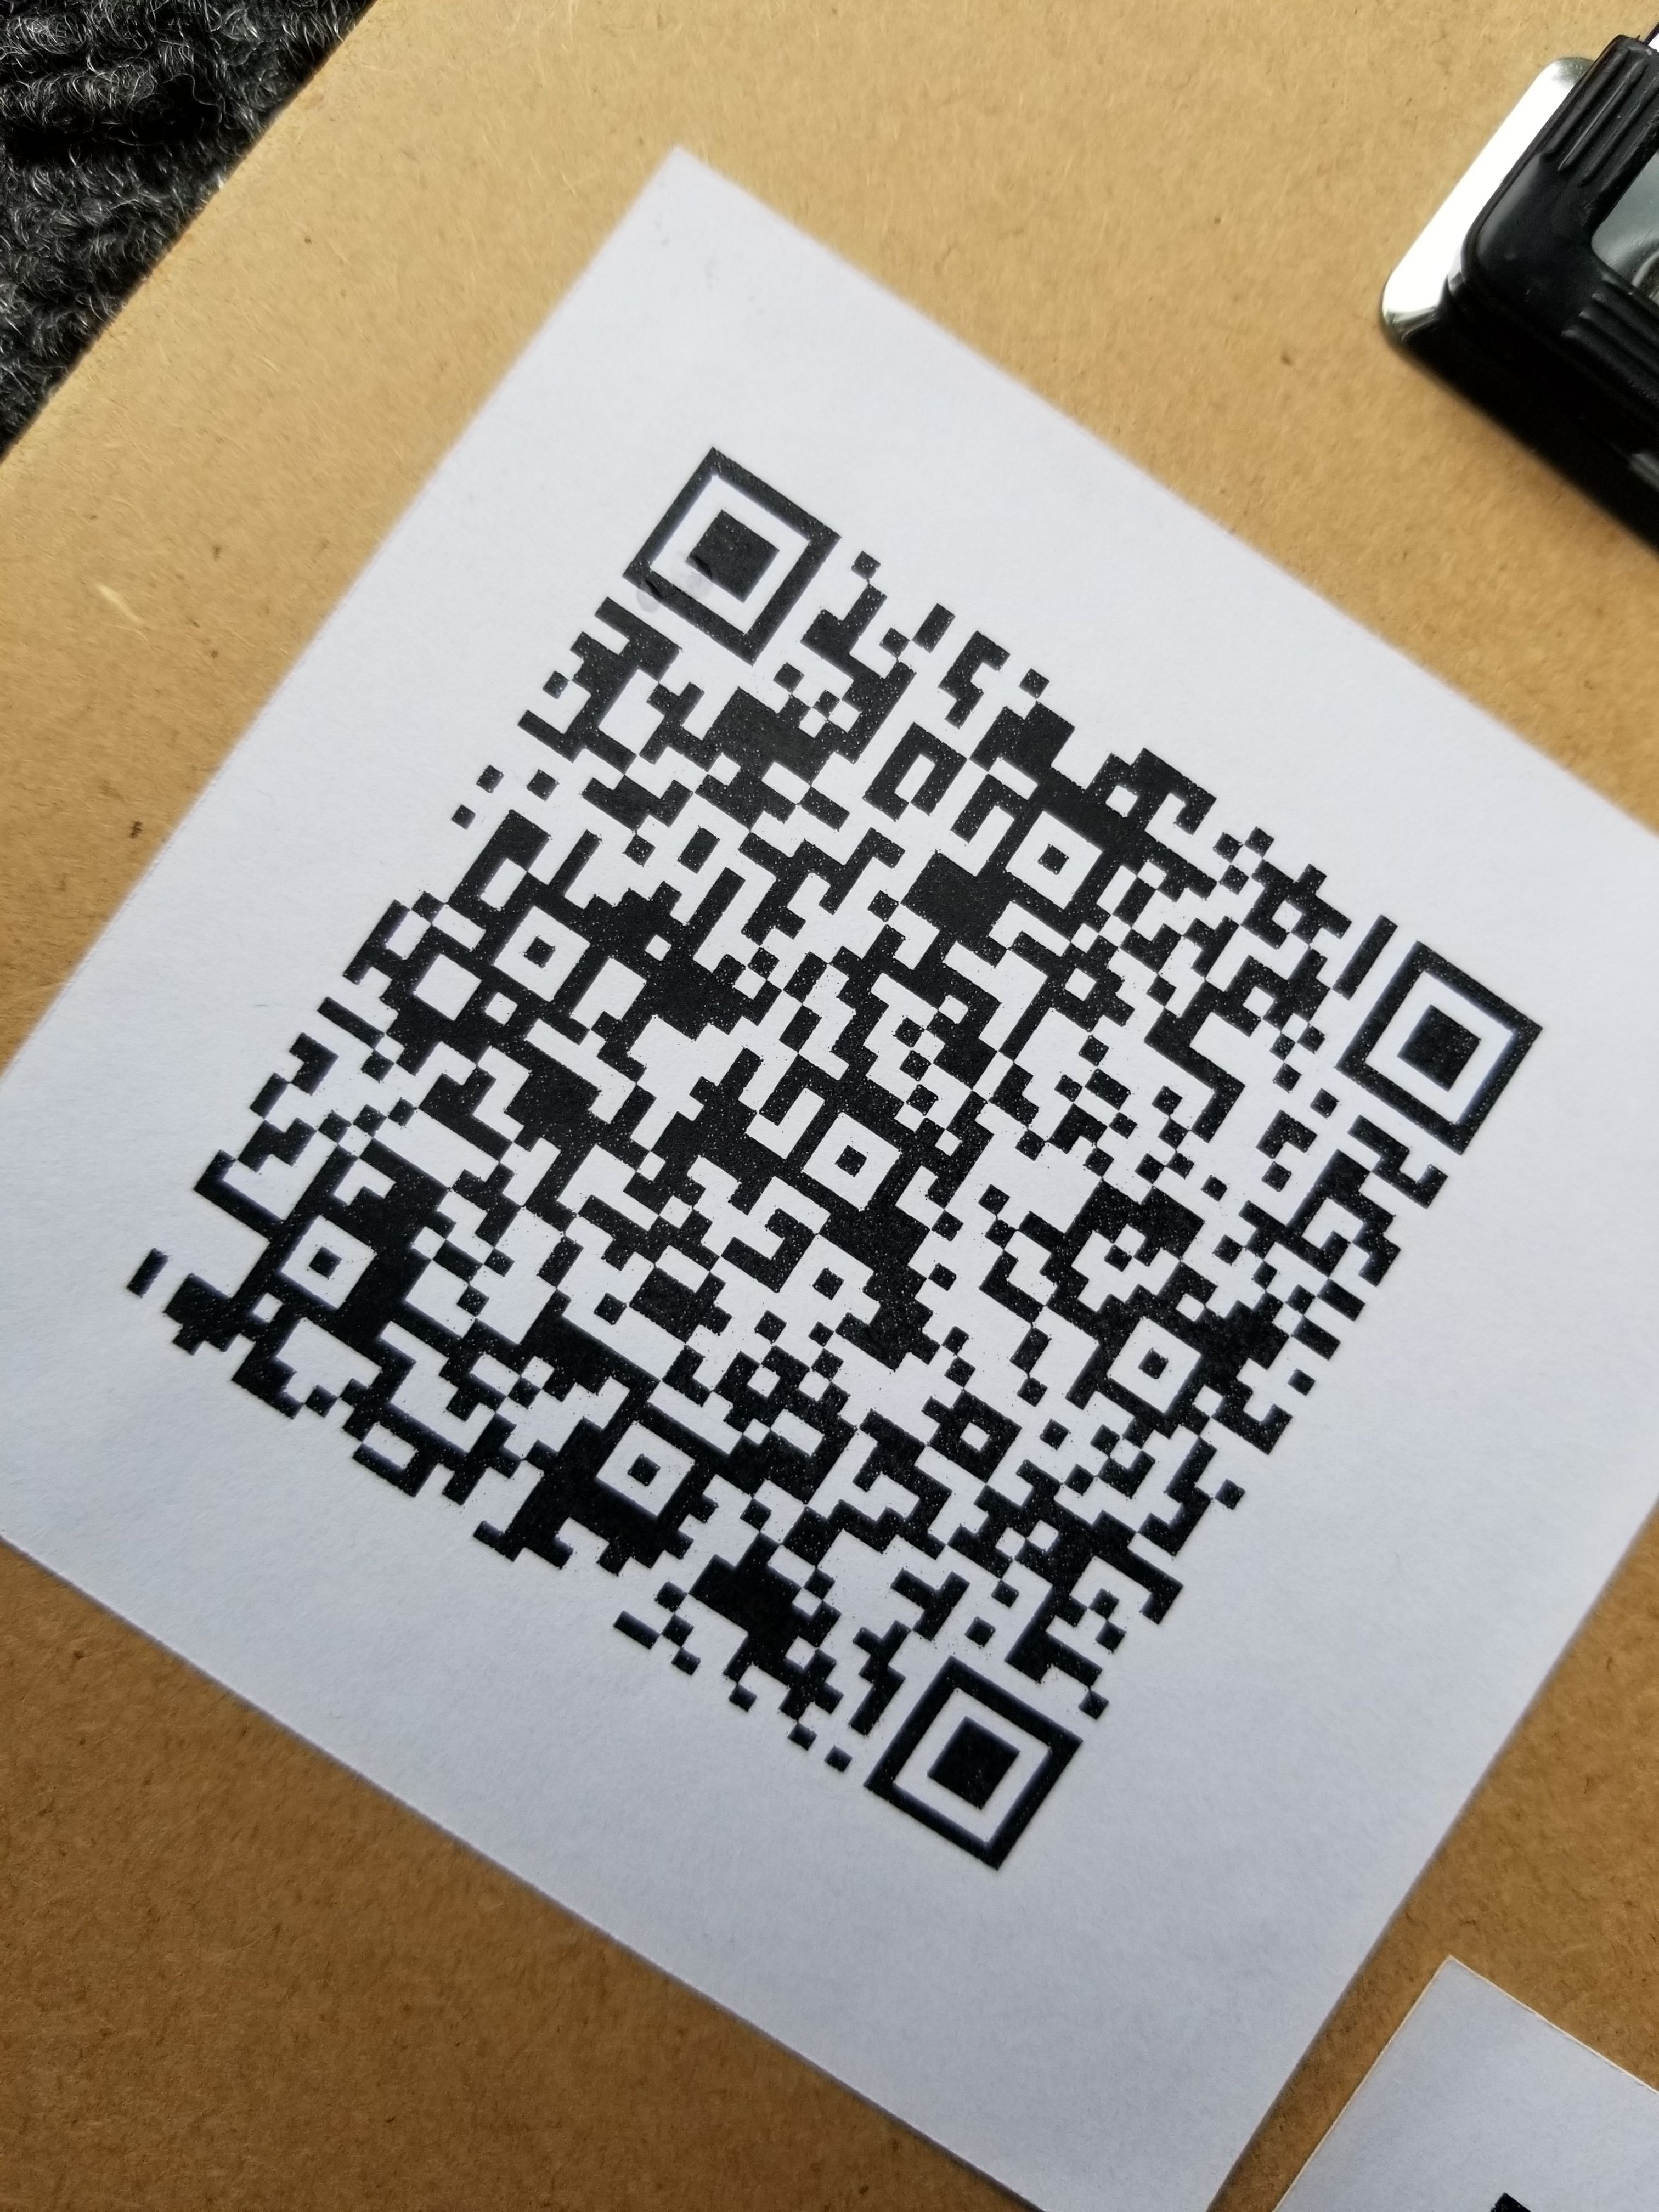QR_CODE: (92, 404, 1577, 1925)
